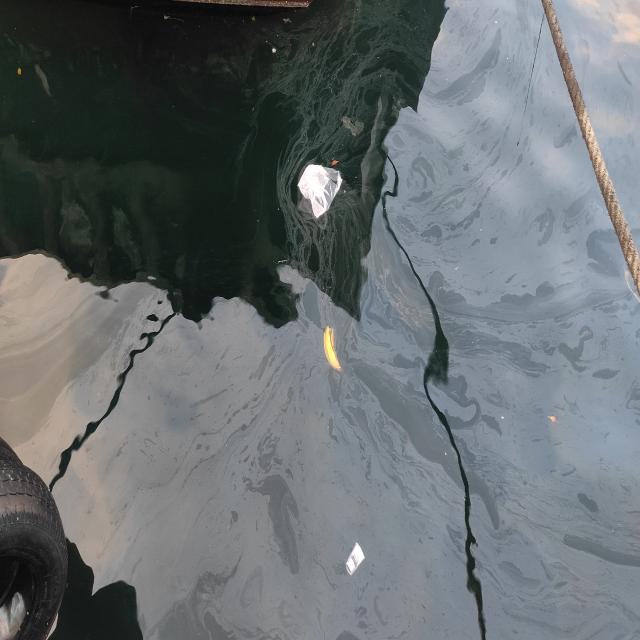Plastic bag: (296, 161, 344, 219), (340, 114, 366, 138)
Plastic cup: (345, 540, 366, 577)
